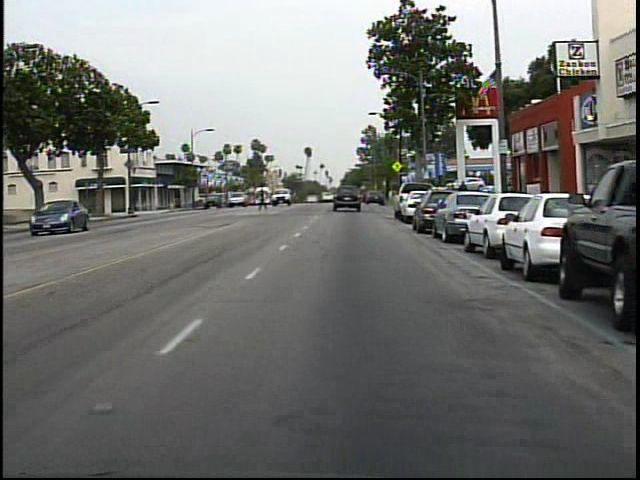person: (454, 177, 474, 218), (255, 184, 271, 214)
